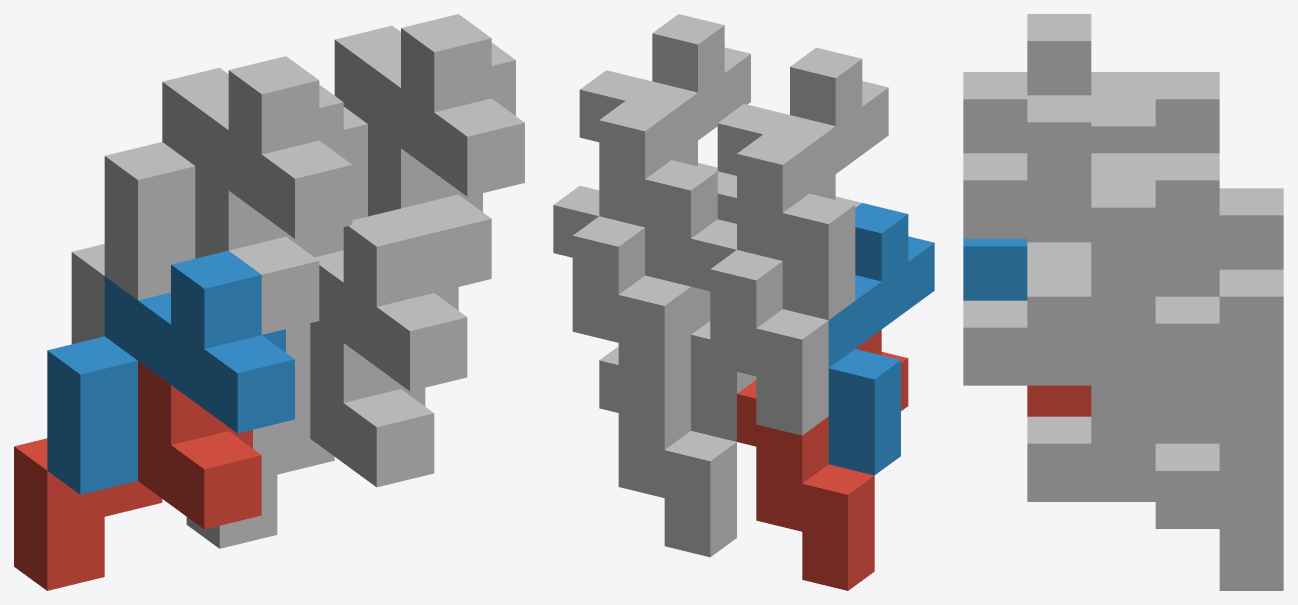
Rendered from tiling.obj.
3 views of the same model, side by side, from view 1: azimuth 30°, elevation 25°; view 2: azimuth 150°, elevation 25°; view 3: azimuth 270°, elevation 25° (orthographic). The views are drawn at different scales.
Visible parts, largest first — view 1: copy_1_domain_4, copy_1_domain_2, copy_1_domain_8, copy_1_domain_1, copy_1_domain_6, copy_1_domain_5, copy_1_domain_3, copy_1_domain_7; view 2: copy_1_domain_4, copy_1_domain_8, copy_1_domain_3, copy_1_domain_7, copy_1_domain_2, copy_1_domain_1, copy_1_domain_5, copy_1_domain_6; view 3: copy_1_domain_8, copy_1_domain_7, copy_1_domain_5, copy_1_domain_4, copy_1_domain_6, copy_1_domain_3, copy_1_domain_2, copy_1_domain_1.
Part boxes in pixels (box(x1,y1,x2,y2)): copy_1_domain_4: box(104, 56, 352, 300); copy_1_domain_2: box(47, 250, 294, 494); copy_1_domain_8: box(310, 14, 524, 257); copy_1_domain_1: box(14, 361, 261, 590); copy_1_domain_6: box(253, 208, 467, 451); copy_1_domain_5: box(186, 322, 434, 548); copy_1_domain_3: box(71, 166, 319, 344); copy_1_domain_7: box(368, 124, 491, 292); copy_1_domain_4: box(717, 47, 888, 320); copy_1_domain_8: box(579, 14, 750, 286); copy_1_domain_3: box(691, 174, 861, 435); copy_1_domain_7: box(553, 141, 720, 401); copy_1_domain_2: box(828, 203, 934, 475); copy_1_domain_1: box(737, 330, 908, 590); copy_1_domain_5: box(599, 346, 736, 557); copy_1_domain_6: box(691, 172, 756, 441); copy_1_domain_8: box(963, 95, 1219, 296); copy_1_domain_7: box(1027, 265, 1283, 443); copy_1_domain_5: box(1027, 412, 1283, 590); copy_1_domain_4: box(963, 14, 1219, 153); copy_1_domain_6: box(963, 242, 1219, 443); copy_1_domain_3: box(1027, 188, 1283, 269); copy_1_domain_2: box(963, 238, 1027, 300); copy_1_domain_1: box(1027, 385, 1091, 416).
Size of the model in its own units: 7 by 9 by 5.
